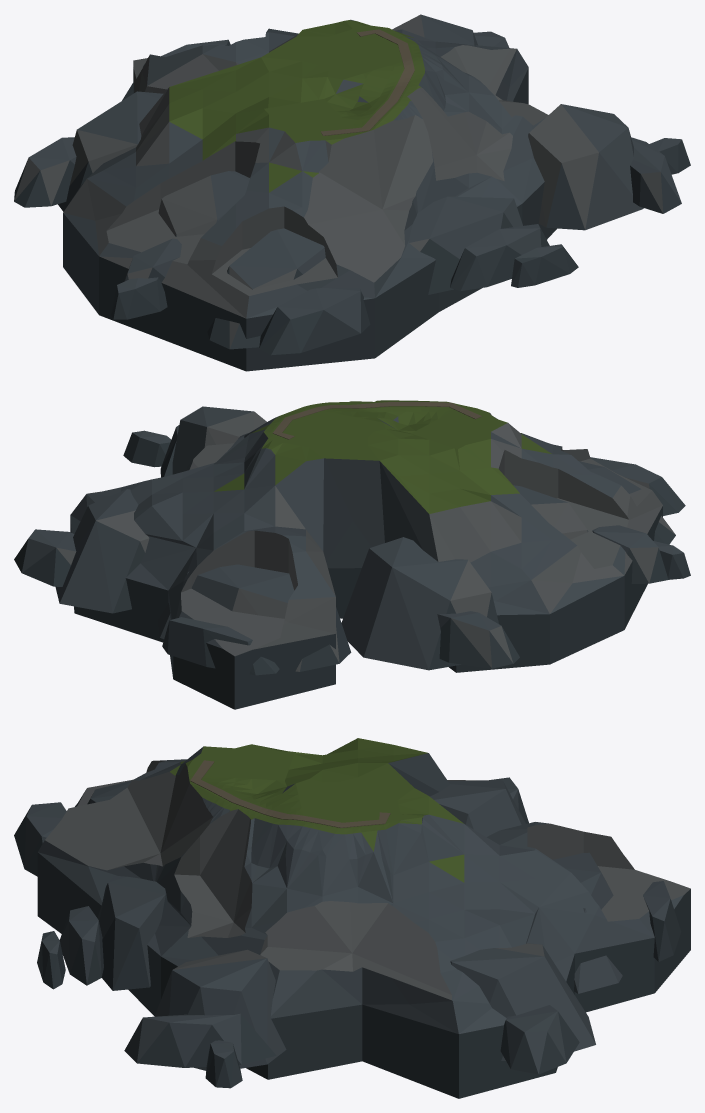
File: island_c.glb
3 views of the same model, one above another, from view 1: azimuth 30°, elevation 25°; view 2: azimuth 150°, elevation 25°; view 3: azimuth 270°, elevation 25° (orthographic). The views are drawn at different scales.
Visible parts, largest first — view 1: island_c_Coast short olive grass, island_c_Coast blue grey bedrock, island_c_Coast weathered stone footpath; view 2: island_c_Coast short olive grass, island_c_Coast blue grey bedrock, island_c_Coast weathered stone footpath; view 3: island_c_Coast short olive grass, island_c_Coast blue grey bedrock, island_c_Coast weathered stone footpath.
Boxes of the visible parts, x1=… form: island_c_Coast short olive grass: x1=63, y1=19, x2=556, y2=371; island_c_Coast blue grey bedrock: x1=14, y1=14, x2=690, y2=355; island_c_Coast weathered stone footpath: x1=320, y1=29, x2=414, y2=135; island_c_Coast short olive grass: x1=70, y1=400, x2=662, y2=709; island_c_Coast blue grey bedrock: x1=14, y1=406, x2=690, y2=675; island_c_Coast weathered stone footpath: x1=272, y1=402, x2=481, y2=439; island_c_Coast short olive grass: x1=37, y1=738, x2=690, y2=1098; island_c_Coast blue grey bedrock: x1=14, y1=777, x2=681, y2=1088; island_c_Coast weathered stone footpath: x1=190, y1=760, x2=390, y2=827.
Size of the model in its own units: 64.61 by 17.59 by 60.
